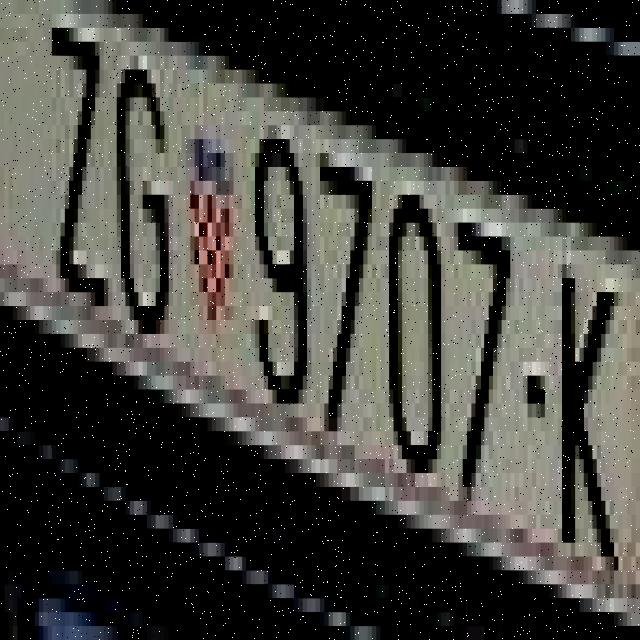0: (383, 153, 443, 487)
7: (448, 181, 512, 515), (314, 118, 369, 452)
9: (244, 70, 310, 431)
G: (112, 35, 178, 341)
K: (547, 216, 625, 591)
Z: (43, 7, 108, 313)
